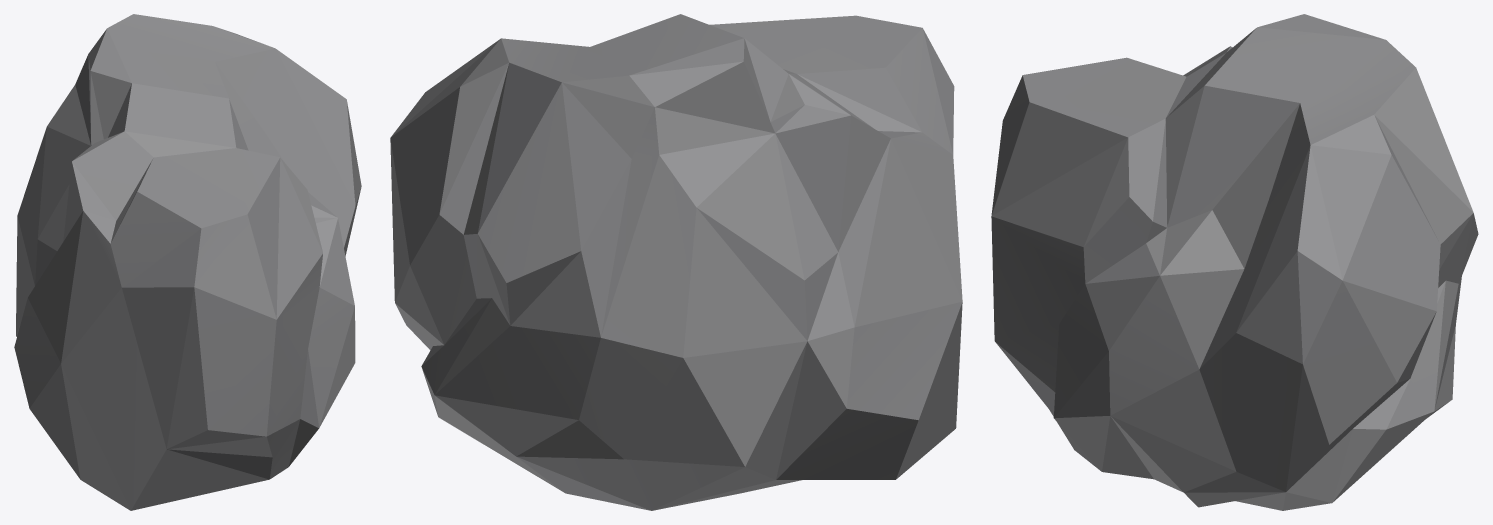
File: Env_Rock_05.fbx
The picture shows the model from 3 angles, left to right: view 1: azimuth 30°, elevation 25°; view 2: azimuth 150°, elevation 25°; view 3: azimuth 270°, elevation 25°; orthographic projection. The views are drawn at different scales.
Parts seen in each view (by area): view 1: Rock_05; view 2: Rock_05; view 3: Rock_05.
Boxes of the visible parts, x1,y1,x2,y2 form: Rock_05: (14,14,361,510); Rock_05: (390,14,962,510); Rock_05: (991,14,1478,510).
Size of the model in its own units: 308 by 289 by 313.
